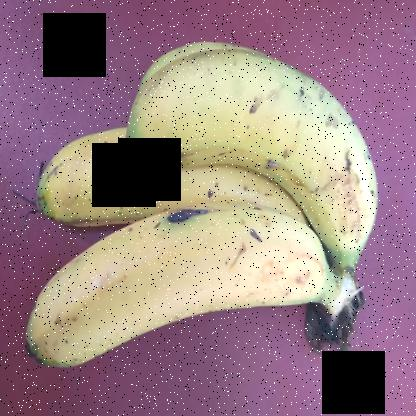ripe: (16, 221, 330, 385), (144, 42, 393, 245), (20, 131, 302, 240)
